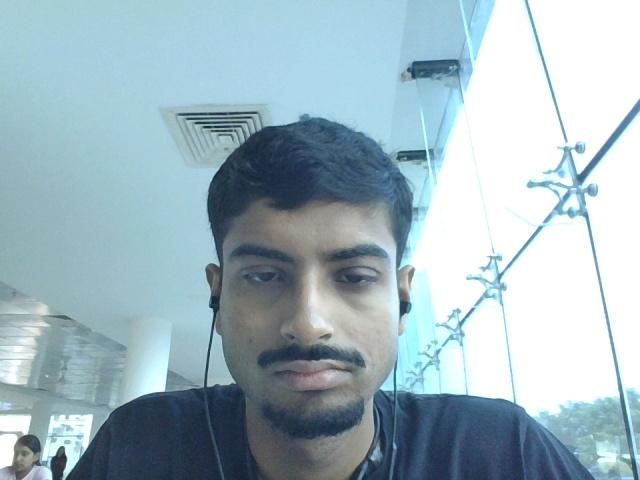nervous: (180, 119, 443, 439)
